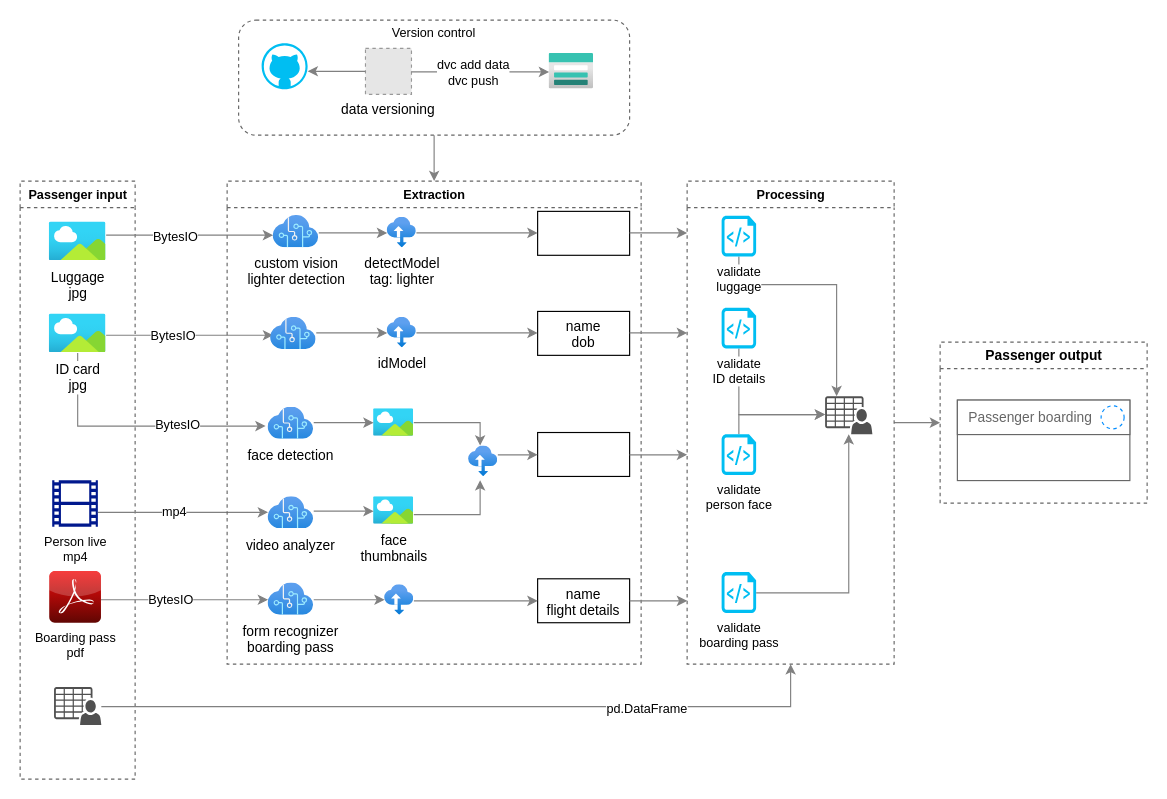
This 1167x799 diagram has some shape labels left out. Grey dashed boxes stand in for pictures. The centre of each missing label's shape, as x and y in pixels:
"[Validation result]" goes at (1043,440).
"boardingModel" goes at (398,599).
"compare faces" goes at (482,461).
"face ID photo" goes at (393,422).
"face similarity" goes at (583,453).
"flight manifest csv" goes at (77,705).
"form recognizer ID card" goes at (293,333).
"objects probabilities" goes at (583,232).
"personal flight manifest" goes at (848,415).
"Source code" goes at (284,66).
"storage account" goes at (571,71).
